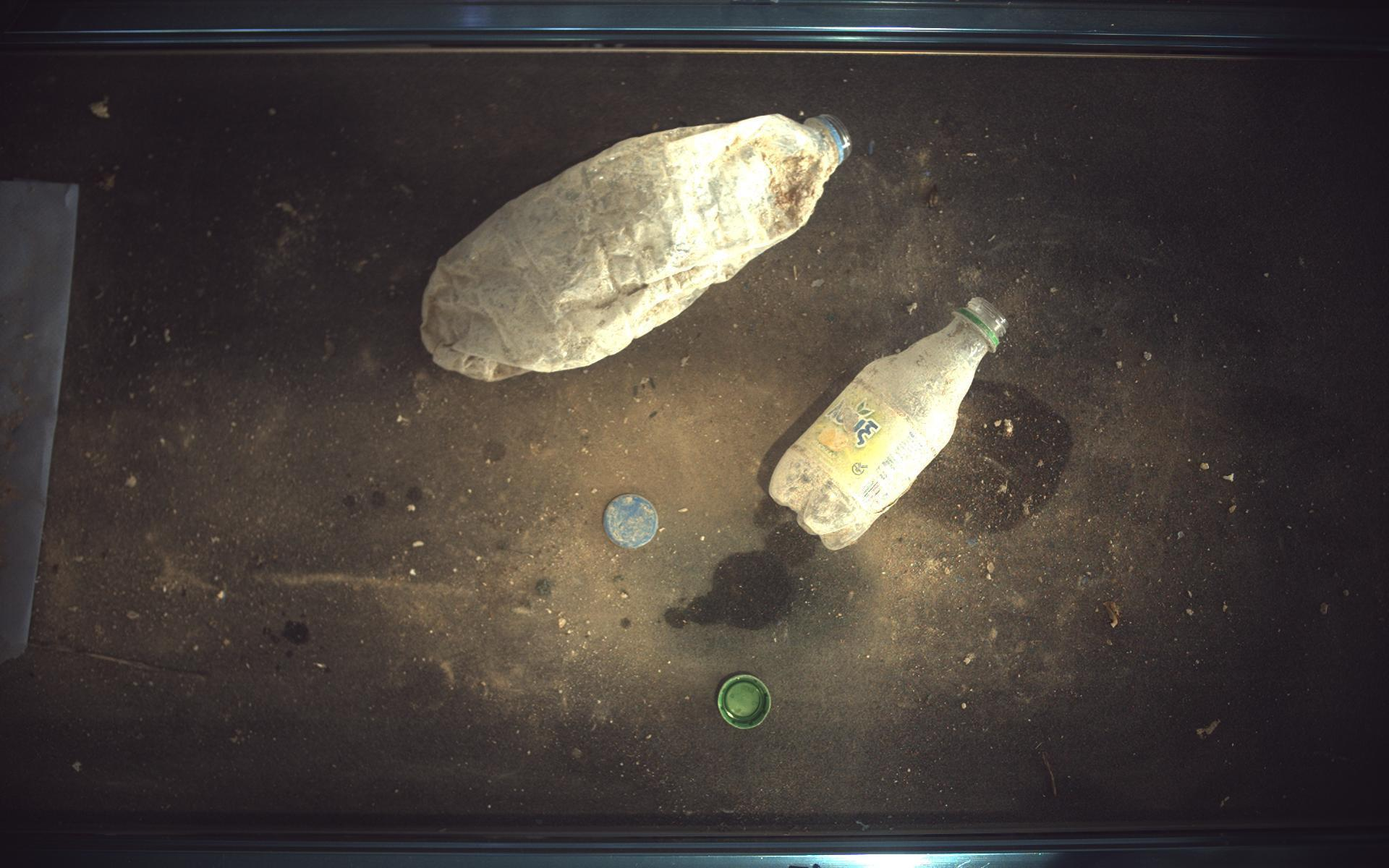general_w: (422, 114, 853, 380), (771, 297, 1008, 550), (604, 494, 659, 549), (720, 675, 773, 730)
